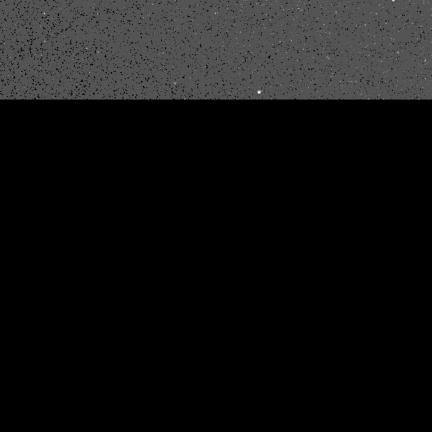blob: (258, 91, 261, 94)
